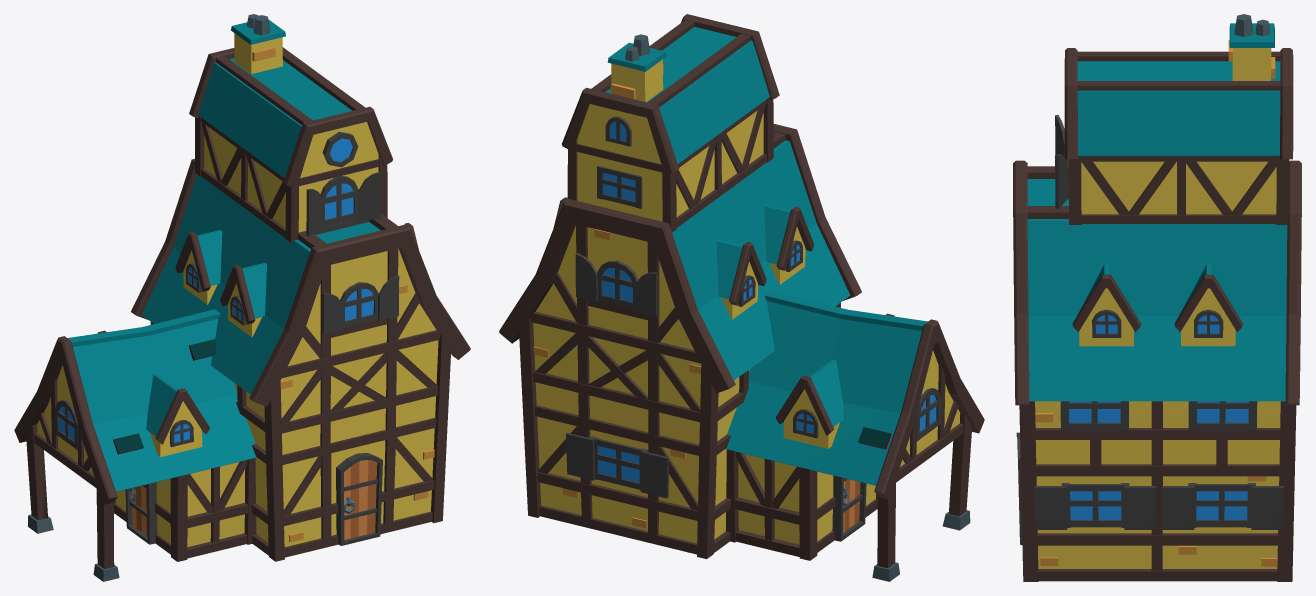
File: House_4-4.fbx
3 renders of one model, left to right at view 1: azimuth 30°, elevation 25°; view 2: azimuth 150°, elevation 25°; view 3: azimuth 270°, elevation 25°, orthographic. The views are drawn at different scales.
Parts seen in each view (by area): view 1: Town_BG_Bd_House06_A; view 2: Town_BG_Bd_House06_A; view 3: Town_BG_Bd_House06_A.
Boxes of the visible parts, x1,y1,x2,y2 form: Town_BG_Bd_House06_A: (14,14,470,581); Town_BG_Bd_House06_A: (499,14,984,581); Town_BG_Bd_House06_A: (1013,14,1301,581).
Size of the model in its own units: 896 by 1111 by 562.
